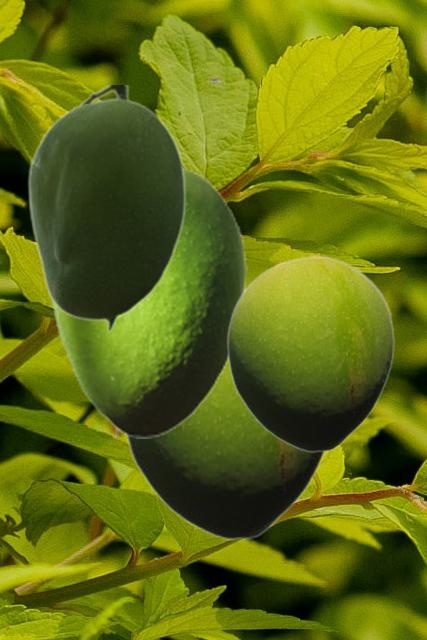green_mango: (48, 163, 246, 437), (26, 85, 185, 332), (124, 365, 325, 540), (226, 255, 394, 452)
